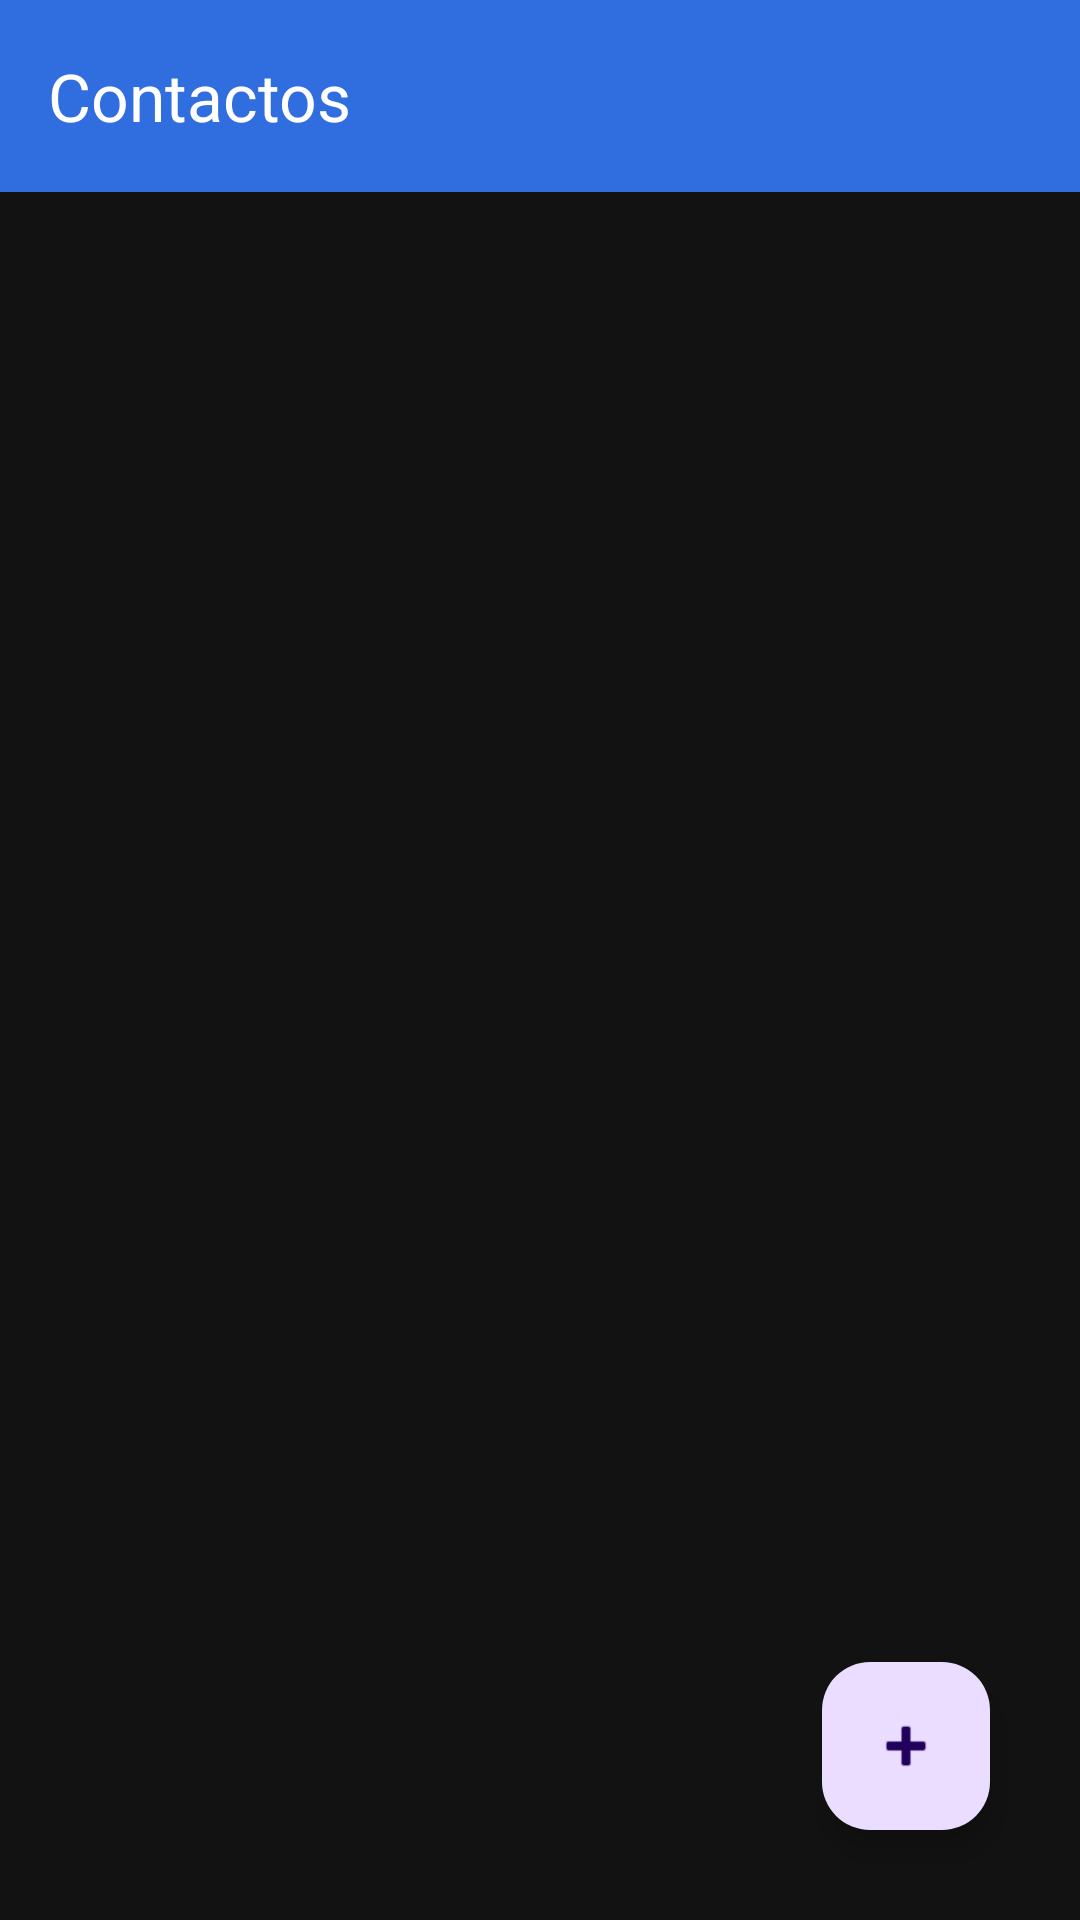

Named icons in this screenshot (1080px×1920px) and their bounding boxes, (x1, y1, x2, y2):
Agregar contacto: (822, 1662, 990, 1830)
